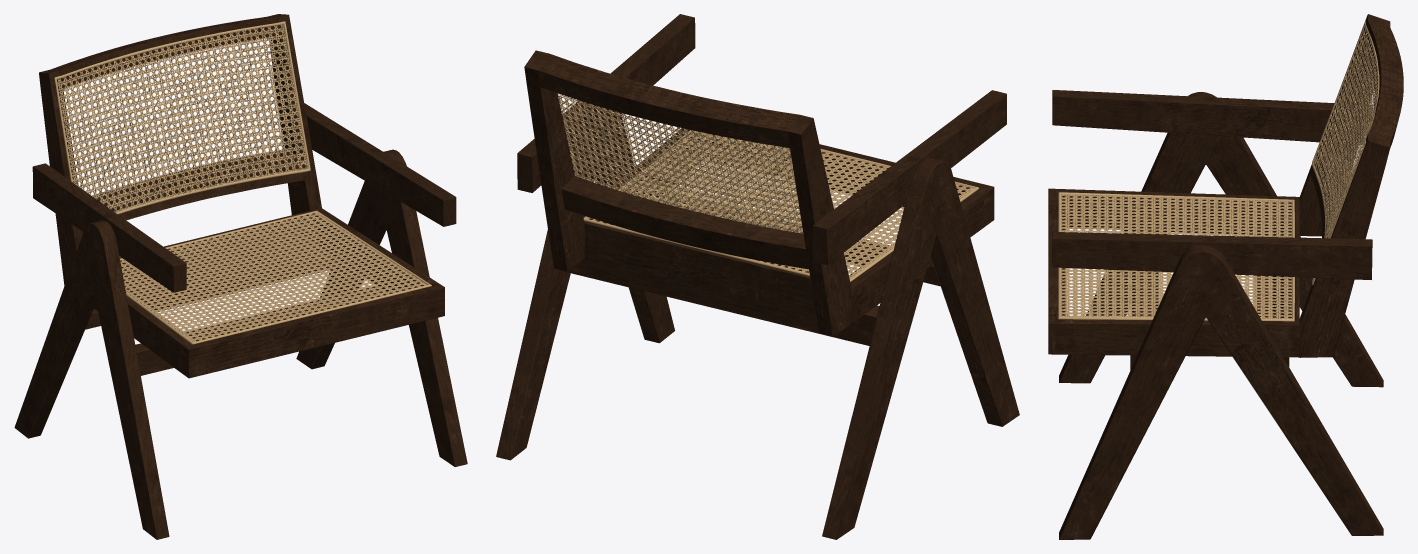
Rendered from bella-3d-cane-lounge-chair.glb.
The picture shows the model from 3 angles, left to right: view 1: azimuth 30°, elevation 25°; view 2: azimuth 150°, elevation 25°; view 3: azimuth 270°, elevation 25°; orthographic projection. The views are drawn at different scales.
Parts seen in each view (by area): view 1: cane-lounge-chair-6, cane-lounge-chair-4; view 2: cane-lounge-chair-6, cane-lounge-chair-4; view 3: cane-lounge-chair-6, cane-lounge-chair-4.
Boxes of the visible parts, x1,y1,x2,y2 form: cane-lounge-chair-6: [14, 14, 467, 539]; cane-lounge-chair-4: [54, 21, 431, 344]; cane-lounge-chair-6: [496, 14, 1019, 539]; cane-lounge-chair-4: [558, 93, 979, 281]; cane-lounge-chair-6: [1048, 14, 1403, 539]; cane-lounge-chair-4: [1058, 21, 1379, 321].
Bounding box in the file's own units: 0.7251 × 0.7894 × 0.6647.
Materials: 3 (1 with a texture image).
